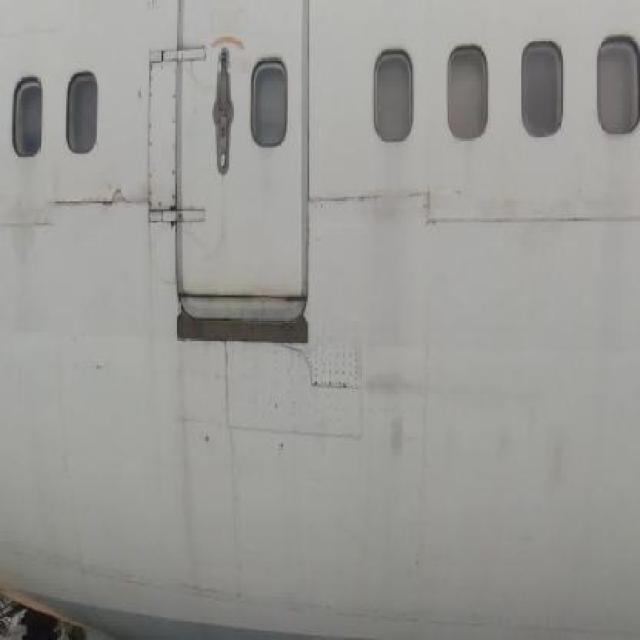Scartch: (102, 170, 135, 239), (418, 175, 445, 232)
